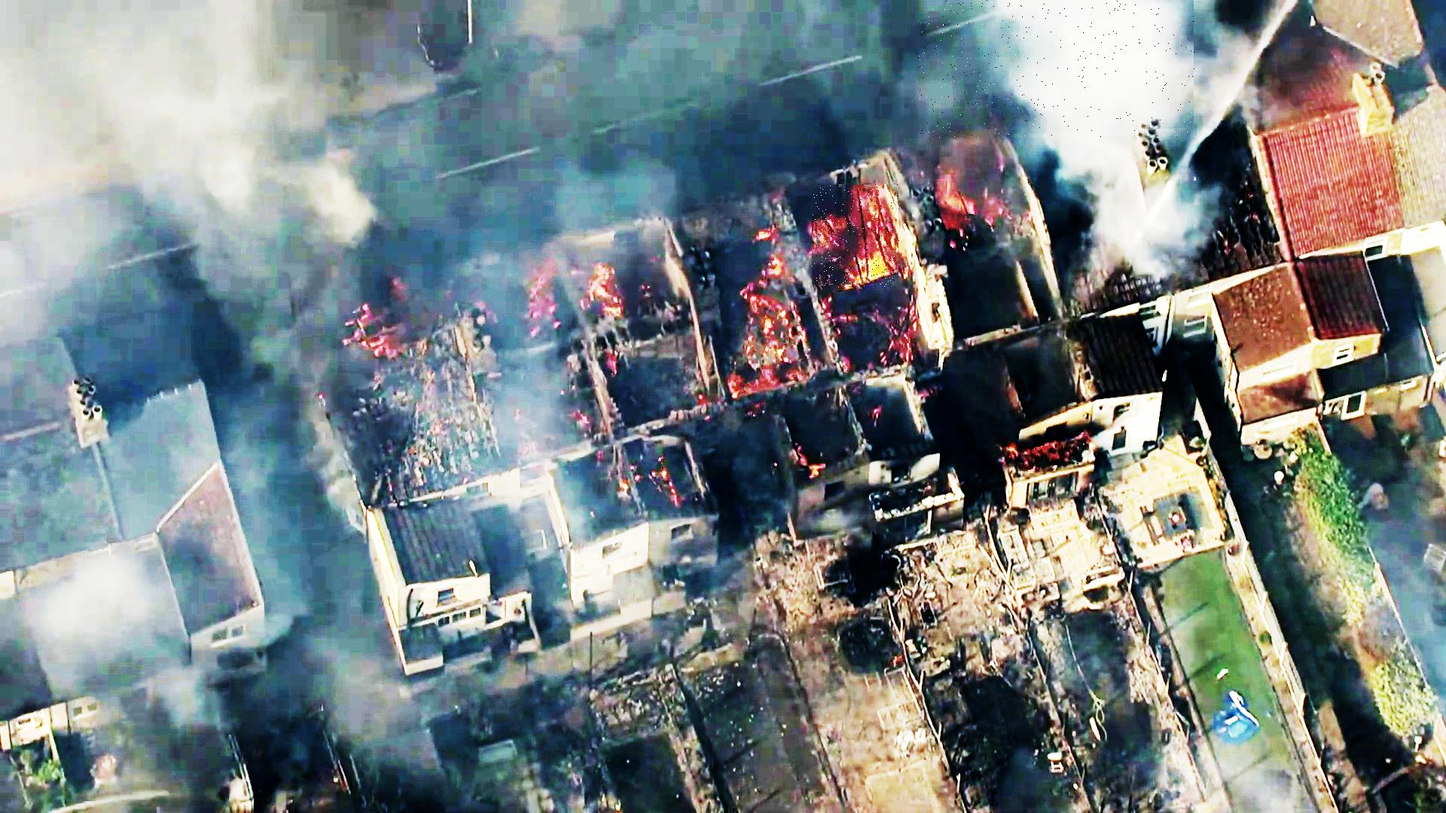fire: (812, 185, 901, 288)
smoke: (920, 0, 1196, 138)
